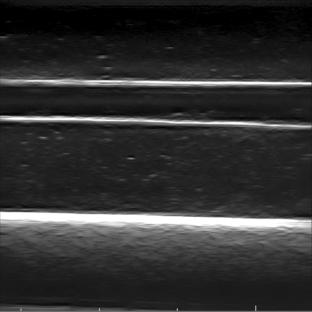vessel: (3, 78, 307, 128)
